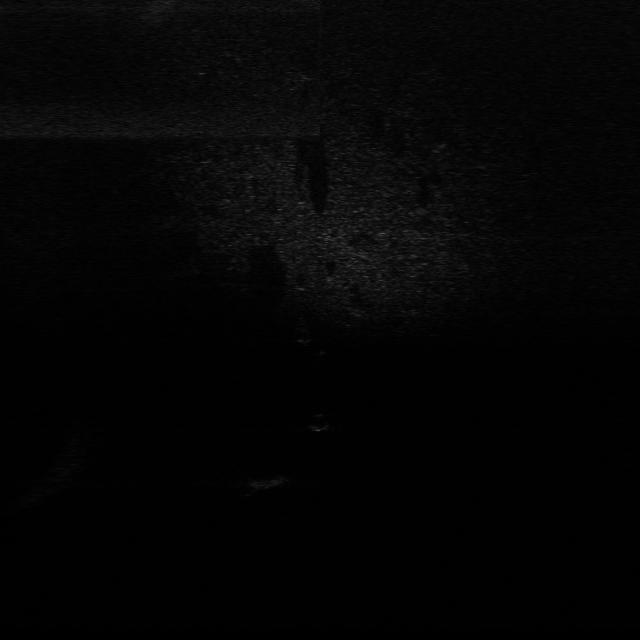ball: (300, 410, 334, 432)
human body: (290, 306, 330, 359)
square cage: (237, 470, 296, 493)
